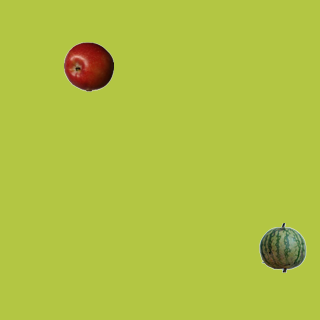Apple Braeburn: (63, 41, 113, 91)
Watermelon: (257, 222, 307, 272)
